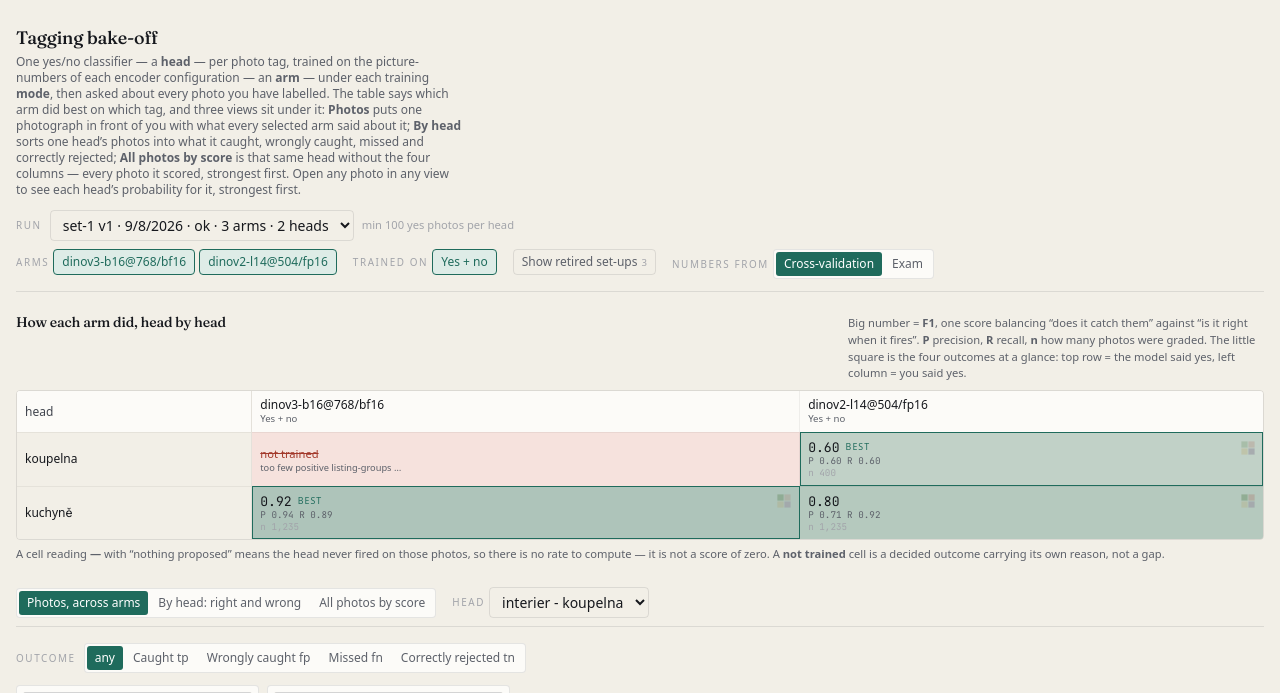
it: <NewDedupTaggingBakeoff> — the metrics overview › the split switch swaps which half of the row is read
Expected: the cell with test id "cell-19-8-pos_neg" shows "0.80", 808,493 -> 840,510
Click the button "Exam" at (908, 264), box 884,252 -> 931,276
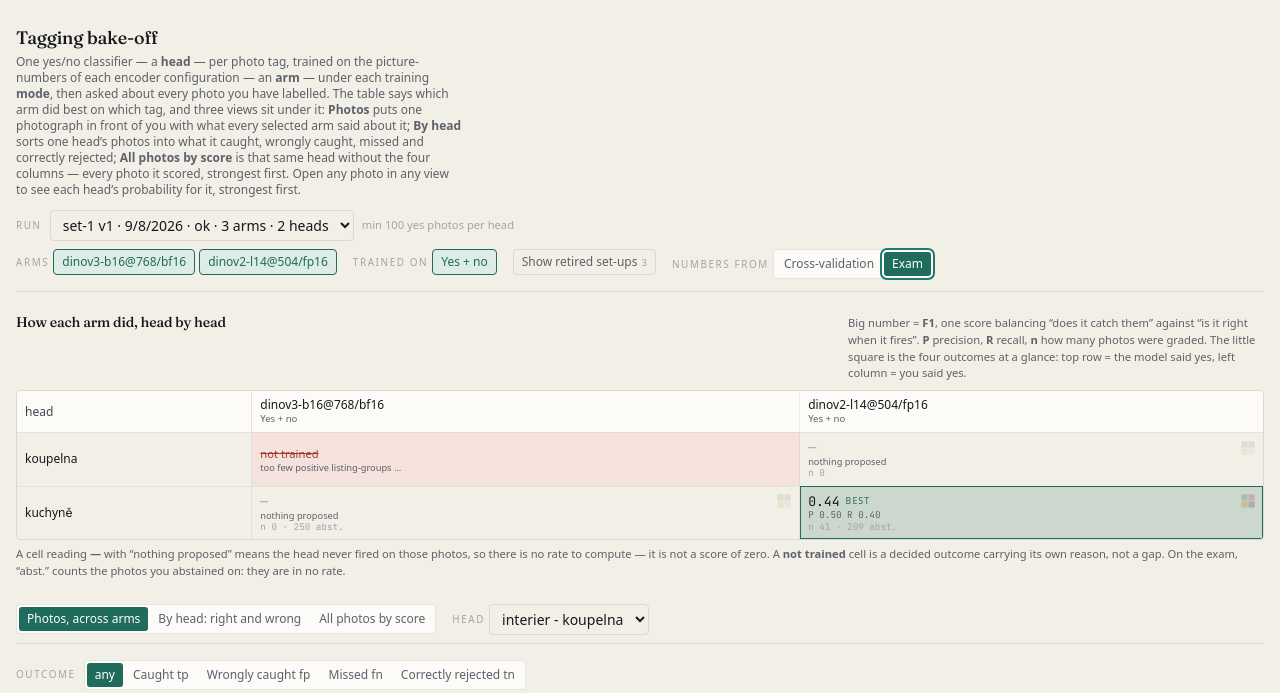
Now the cell with test id "cell-19-8-pos_neg" shows "0.44", box 808,493 -> 840,510
Now the cell with test id "cell-19-8-pos_neg" shows "n 41", box 800,486 -> 1263,539
